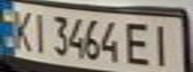3: (48, 11, 69, 56)
4: (100, 17, 124, 64), (66, 15, 84, 60)
6: (81, 16, 103, 61)
E: (121, 18, 157, 68)
I: (145, 20, 181, 69), (27, 9, 51, 54)
K: (6, 6, 36, 52)
